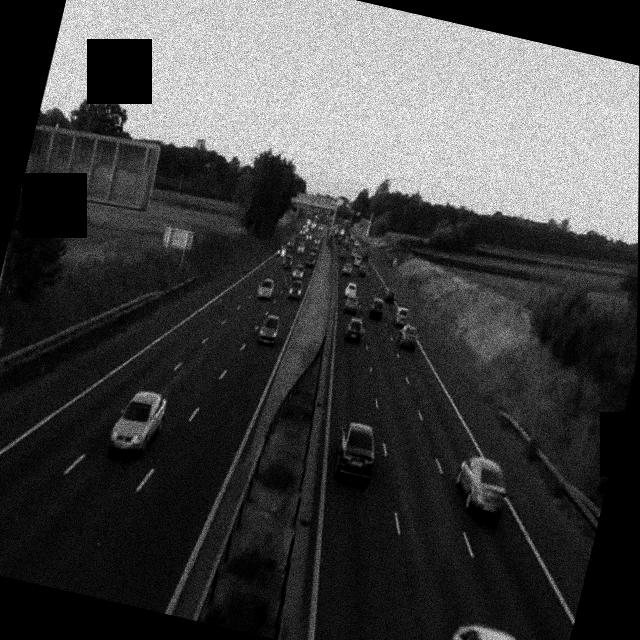car: (107, 385, 169, 462), (450, 453, 515, 519), (330, 420, 382, 482), (443, 620, 546, 640), (256, 311, 281, 345), (397, 321, 421, 350), (343, 314, 366, 342), (255, 277, 275, 302), (368, 296, 387, 321), (392, 304, 411, 329), (286, 278, 304, 301), (343, 280, 359, 298), (383, 286, 398, 304), (281, 254, 294, 272), (305, 251, 316, 268), (339, 262, 351, 276), (356, 263, 367, 278), (275, 242, 285, 255), (310, 241, 320, 254), (362, 250, 371, 264)
